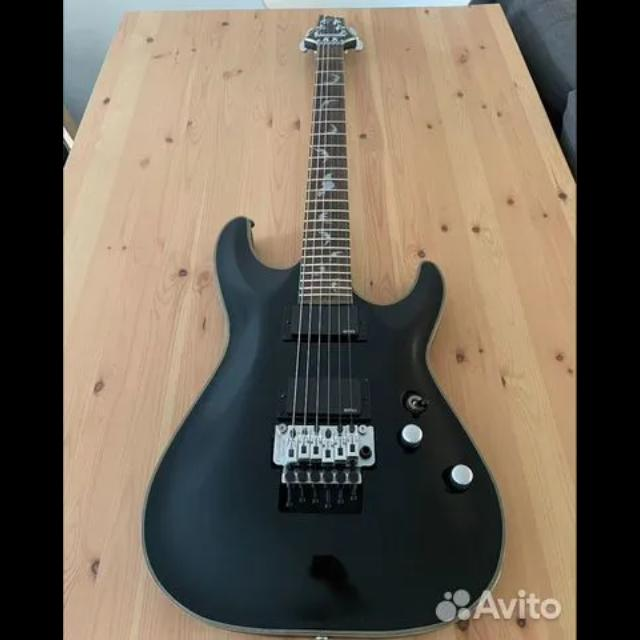Electric-Guitar: (142, 16, 503, 638)
